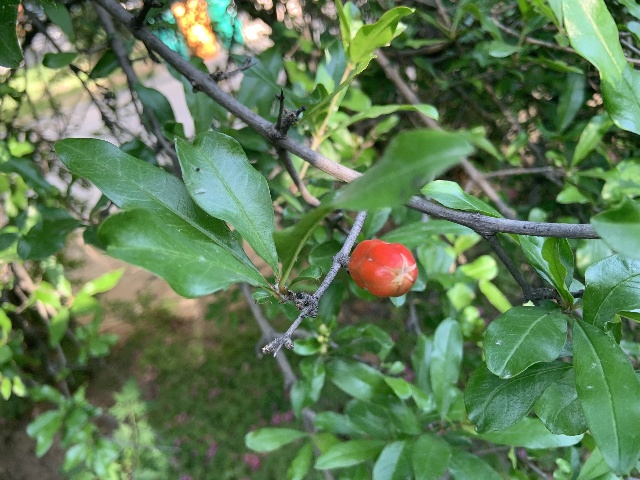bud: (349, 239, 417, 298)
